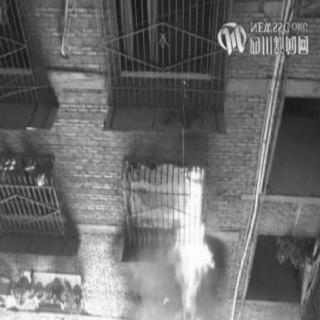Fire: (156, 172, 227, 320)
